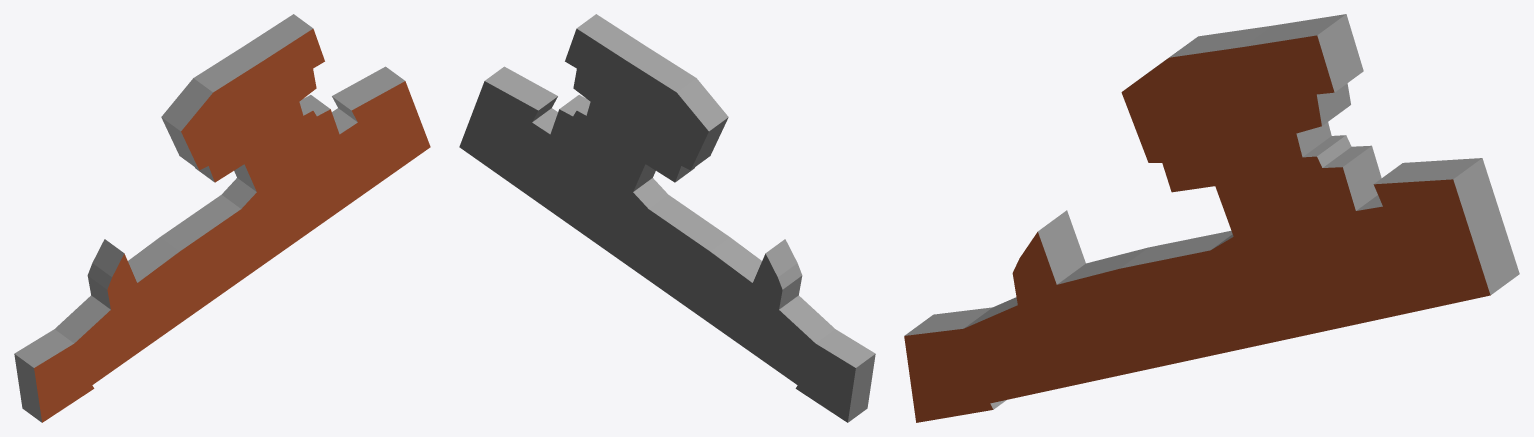
File: construction_5753_assumed_A_Casa_h6m.obj
3 renders of one model, left to right at view 1: azimuth 30°, elevation 25°; view 2: azimuth 150°, elevation 25°; view 3: azimuth 330°, elevation 25°, orthographic. The views are drawn at different scales.
Parts seen in each view (by area): view 1: construction_5753_assumed_A_Casa; view 2: construction_5753_assumed_A_Casa; view 3: construction_5753_assumed_A_Casa.
Boxes of the visible parts, x1,y1,x2,y2 form: construction_5753_assumed_A_Casa: [14, 14, 430, 422]; construction_5753_assumed_A_Casa: [459, 14, 875, 422]; construction_5753_assumed_A_Casa: [904, 14, 1519, 422].
Bounding box in the file's own units: 69.51 × 54.98 × 6.
